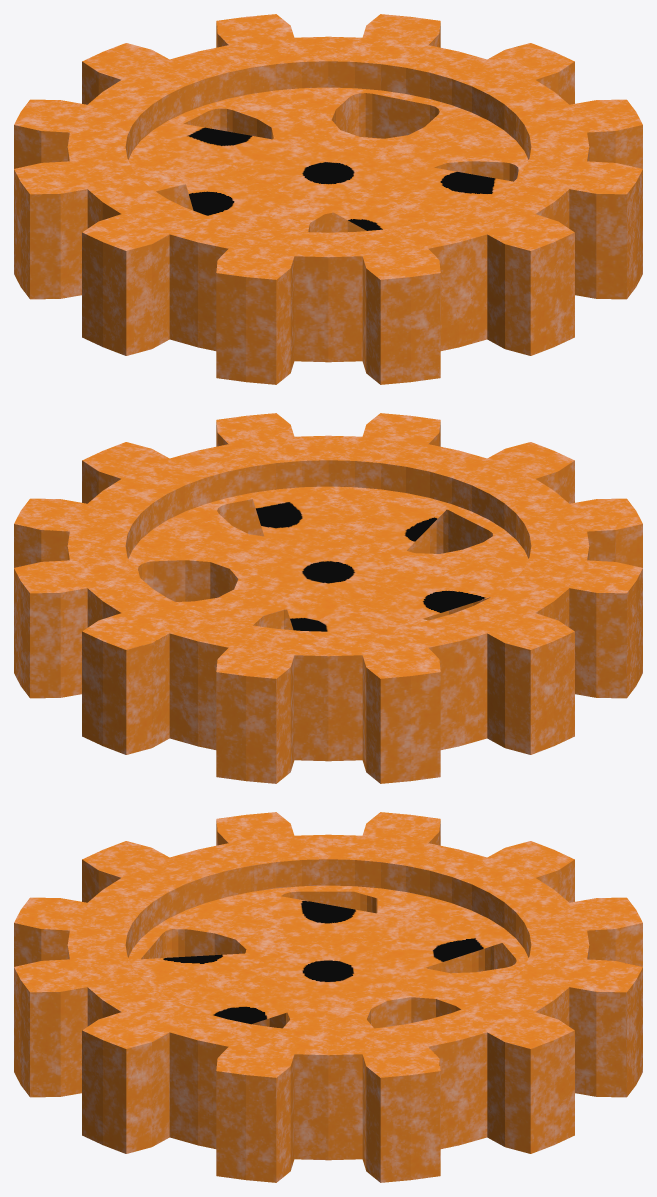
The model's file is cogwheel_medium.fbx.
The picture shows the model from 3 angles, top to bottom: view 1: azimuth 30°, elevation 25°; view 2: azimuth 150°, elevation 25°; view 3: azimuth 270°, elevation 25°; orthographic projection.
Parts seen in each view (by area): view 1: Medium Gear; view 2: Medium Gear; view 3: Medium Gear.
Part boxes in pixels (box(x1,y1,x2,y2)): Medium Gear: box(14, 14, 642, 384); Medium Gear: box(14, 413, 642, 783); Medium Gear: box(14, 812, 642, 1182).
Size of the model in its own units: 217 by 40 by 217.
1 material, 1 textured.
